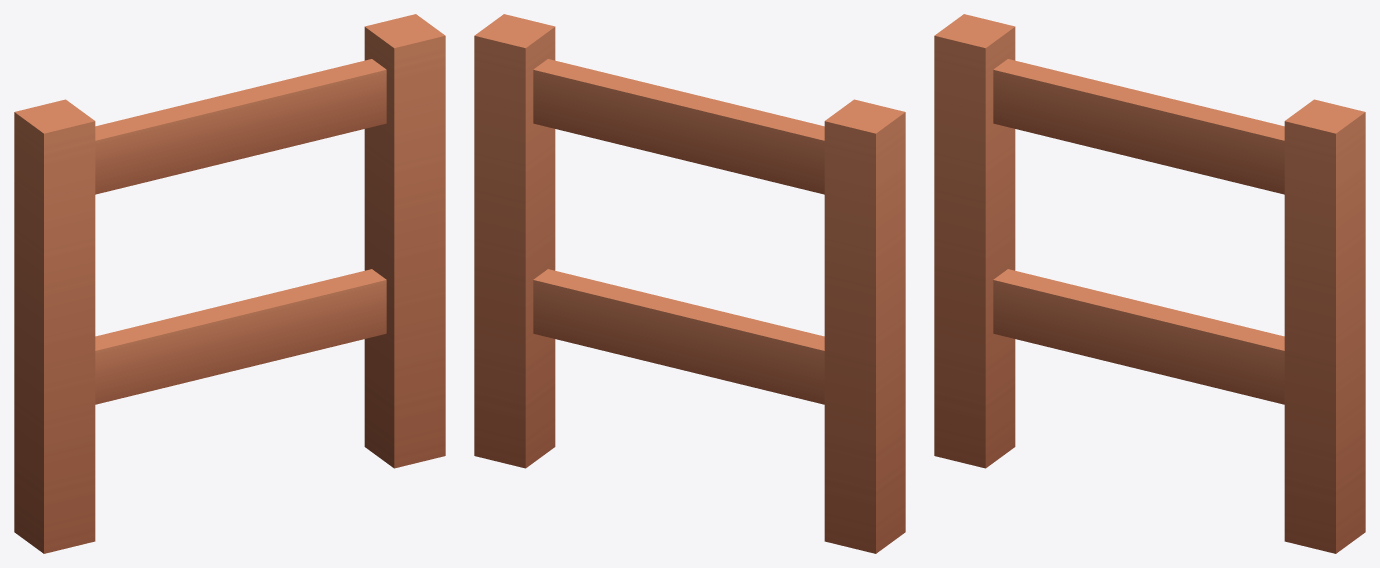
Rendered from wood-structure-high-part.fbx.
3 renders of one model, left to right at view 1: azimuth 30°, elevation 25°; view 2: azimuth 150°, elevation 25°; view 3: azimuth 330°, elevation 25°, orthographic.
Visible parts, largest first — view 1: wood-structure-high-part; view 2: wood-structure-high-part; view 3: wood-structure-high-part.
Boxes of the visible parts, x1,y1,x2,y2 form: wood-structure-high-part: (14, 14, 445, 553); wood-structure-high-part: (474, 14, 905, 553); wood-structure-high-part: (934, 14, 1365, 553).
Size of the model in its own units: 100 by 100 by 12.8.
